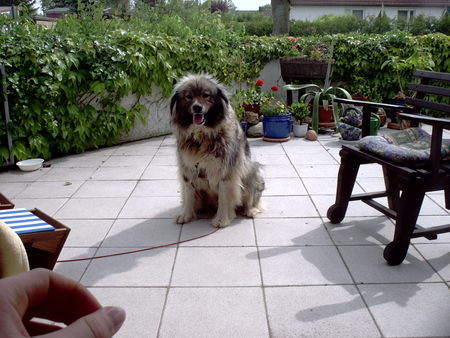cau_ovcharka: (168, 74, 266, 228)
